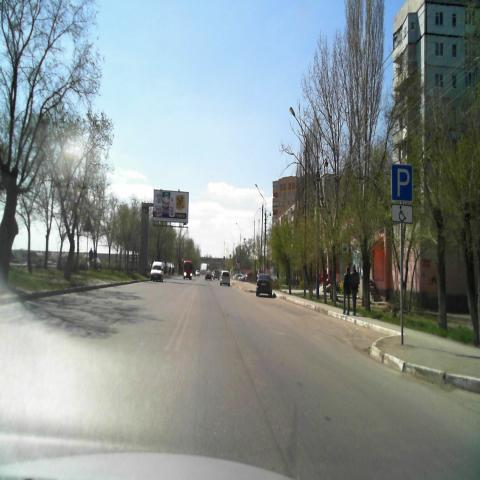8_17: (391, 202, 413, 223)
